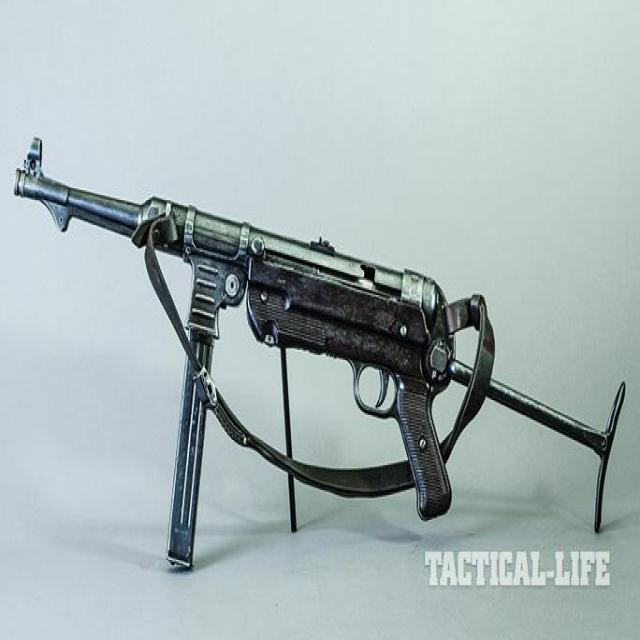SMG: (13, 140, 627, 573)
